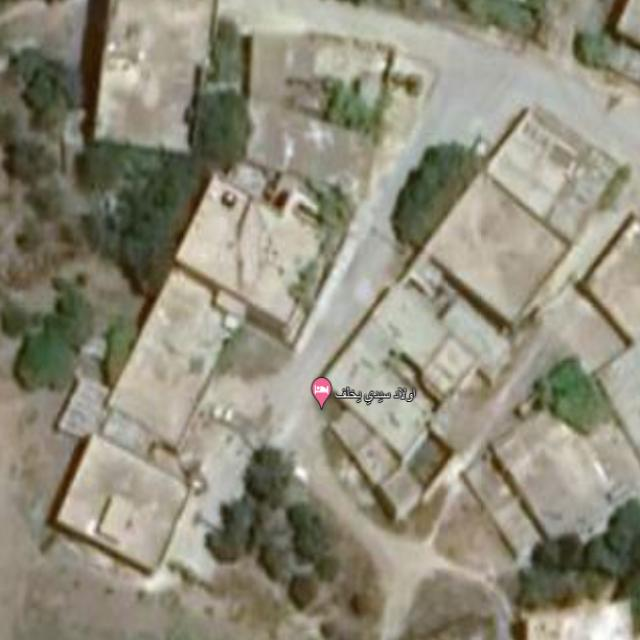Countryside roofs: (324, 270, 499, 465), (234, 24, 402, 189), (54, 420, 202, 588), (184, 165, 334, 327), (59, 0, 214, 149), (438, 174, 574, 336), (476, 92, 634, 226), (484, 398, 618, 554), (114, 270, 238, 428)
